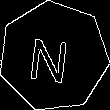N_N: (30, 29, 77, 84)
